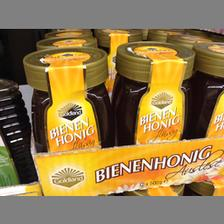Honig: (21, 47, 117, 164), (116, 40, 196, 160)
